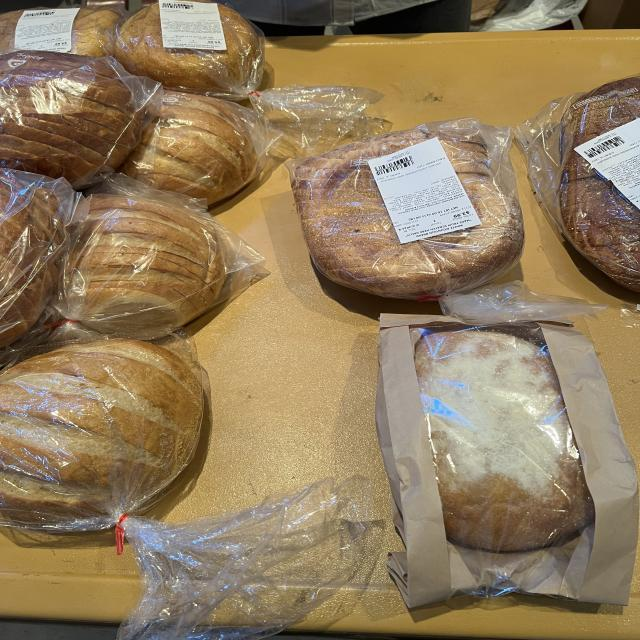Bread: (0, 336, 370, 640), (377, 315, 638, 608), (287, 118, 607, 324), (115, 5, 390, 158), (57, 174, 268, 334), (515, 76, 640, 291), (0, 50, 160, 188), (120, 90, 278, 204), (0, 169, 87, 345), (0, 6, 123, 58)
